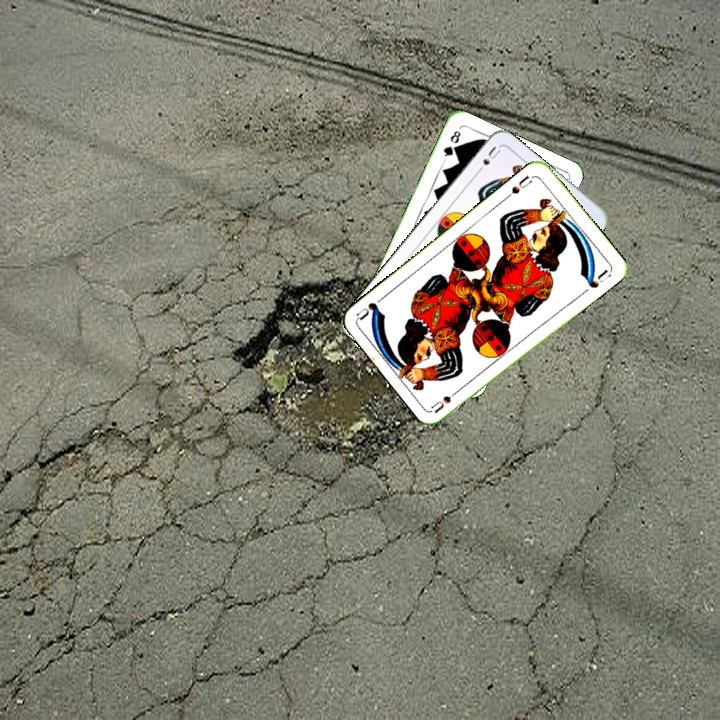G8: (439, 126, 463, 163)
SU: (428, 383, 465, 415), (472, 142, 503, 177), (502, 171, 535, 201)
